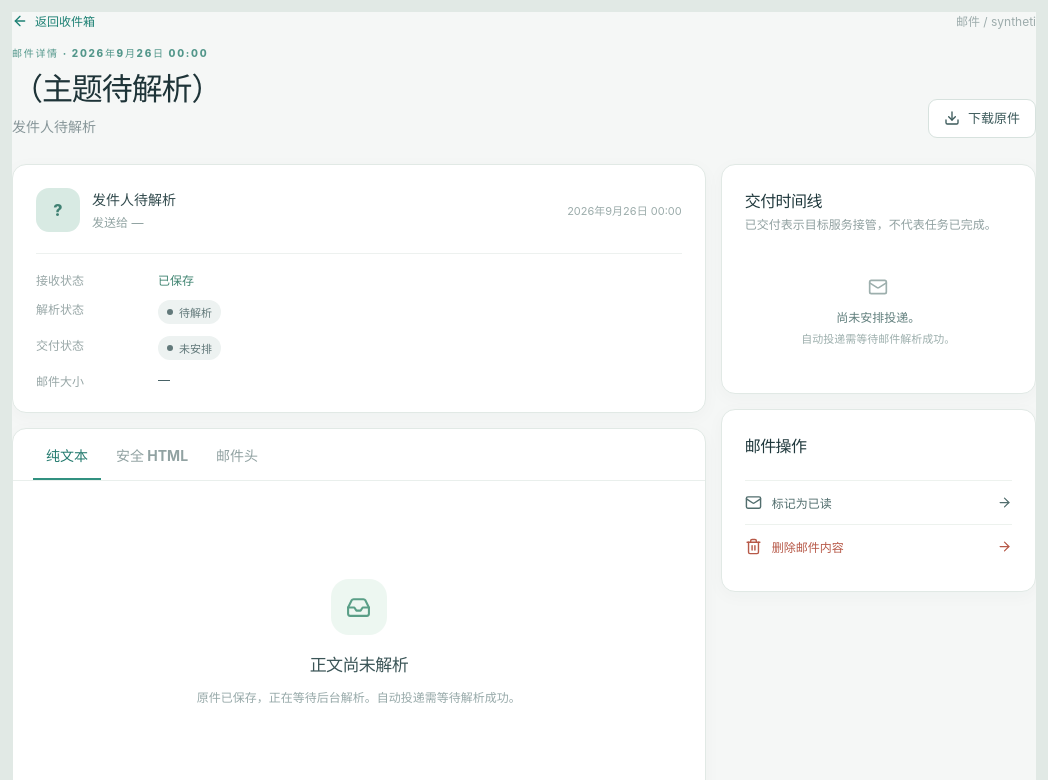
Test case: distinguishes pending content from a parsed empty email
Expected: the heading "（主题待解析）" is shown, [12, 71, 221, 108]
Expected: the text "发件人待解析" is shown 2 times, [12, 118, 96, 135]; [92, 190, 176, 210]
Click the tab "安全 HTML" at (152, 454), box [103, 429, 201, 480]
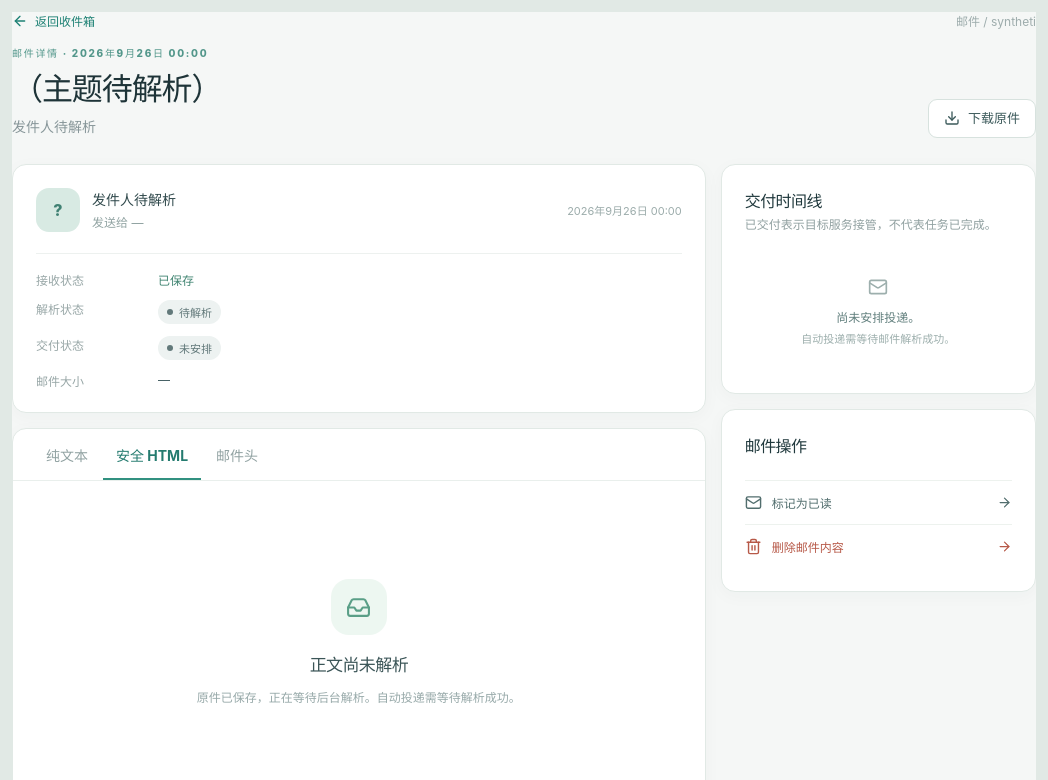
Expected: the heading "正文尚未解析" is shown, [310, 650, 408, 681]
Click the tab "邮件头" at (237, 454), box [203, 429, 271, 480]
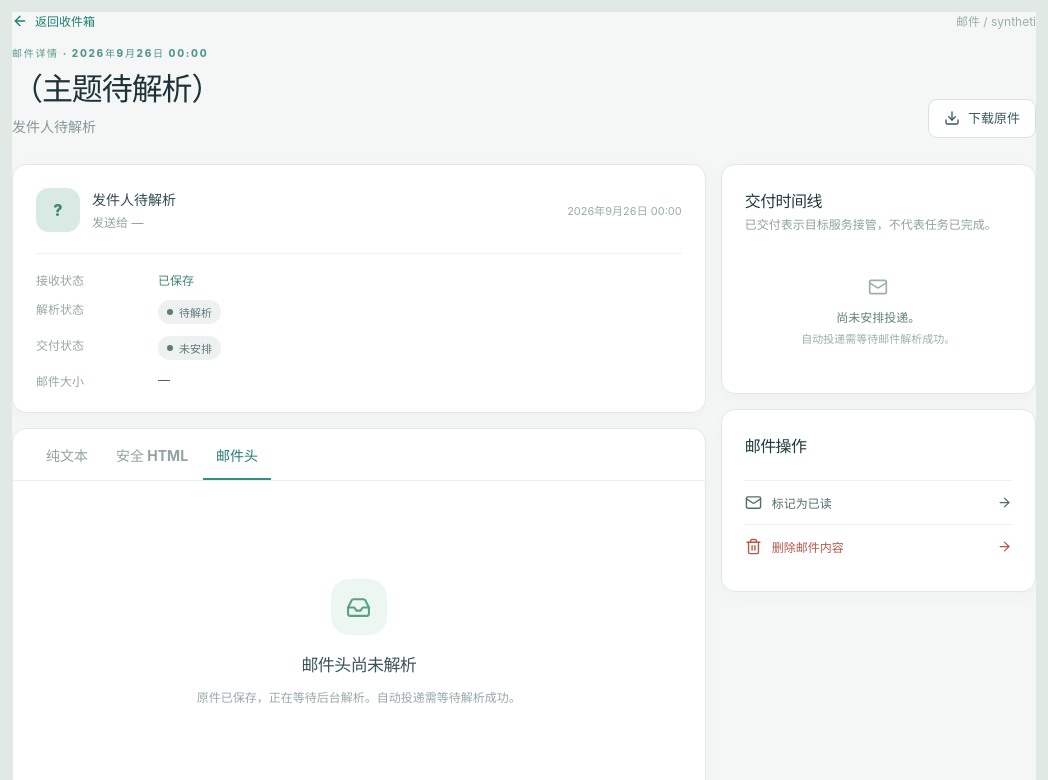
Now the heading "邮件头尚未解析" is shown, box [301, 650, 416, 681]
